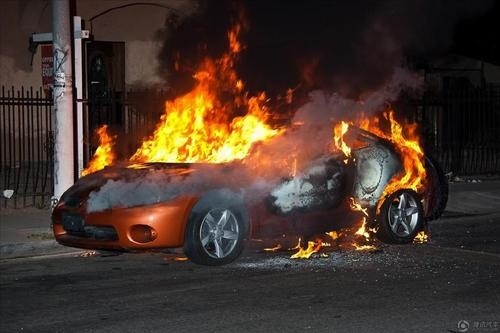fire: (124, 32, 290, 166), (329, 106, 430, 246), (81, 123, 116, 175)
